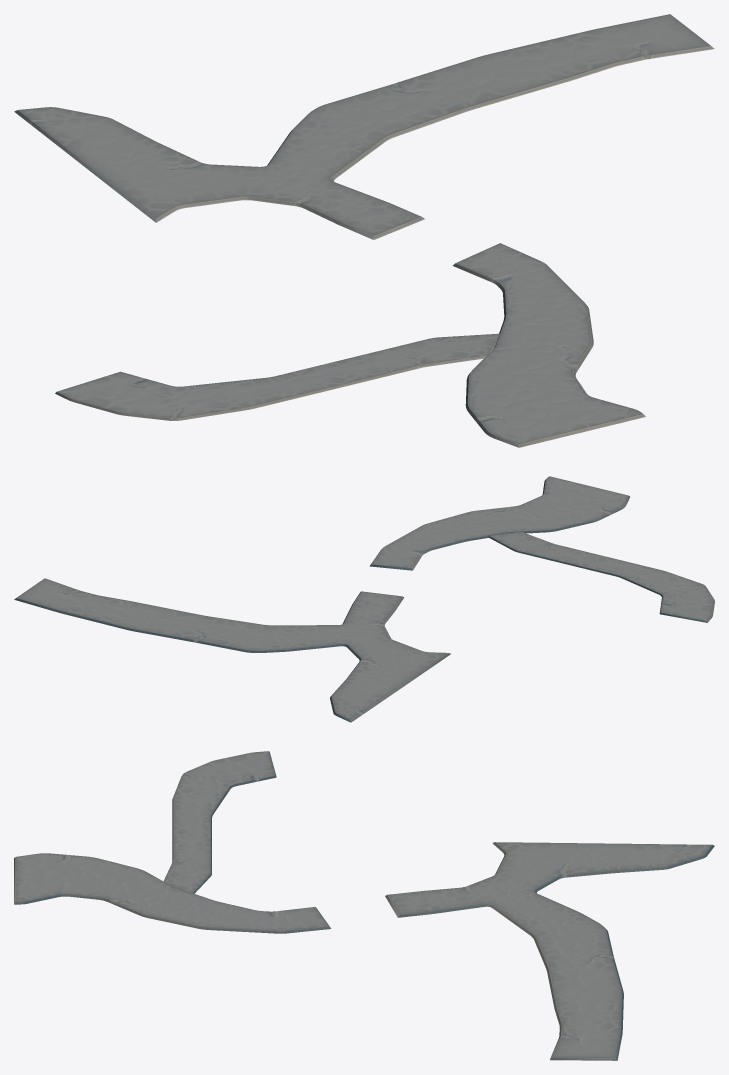
Rendered from 3_Paths_Zone2.fbx.
The picture shows the model from 3 angles, top to bottom: view 1: azimuth 30°, elevation 25°; view 2: azimuth 150°, elevation 25°; view 3: azimuth 270°, elevation 25°; orthographic projection. The views are drawn at different scales.
Visible parts, largest first — view 1: Zone2_Path_part2_LOW, Zone2_Path_part1_LOW, Zone2_Path_part3_LOW; view 2: Zone2_Path_part2_LOW, Zone2_Path_part1_LOW, Zone2_Path_part3_LOW; view 3: Zone2_Path_part2_LOW, Zone2_Path_part1_LOW, Zone2_Path_part3_LOW.
Part boxes in pixels (x1,y1,x2,y2): Zone2_Path_part2_LOW: (14,14,714,239); Zone2_Path_part1_LOW: (452,243,645,447); Zone2_Path_part3_LOW: (55,333,499,420); Zone2_Path_part2_LOW: (14,578,450,722); Zone2_Path_part1_LOW: (370,476,629,570); Zone2_Path_part3_LOW: (489,532,714,622); Zone2_Path_part2_LOW: (385,842,714,1060); Zone2_Path_part1_LOW: (14,853,331,933); Zone2_Path_part3_LOW: (163,751,276,893).
Bounding box in the file's own units: 3674 × 10.35 × 3524.
Materials: 3 (3 with a texture image).
